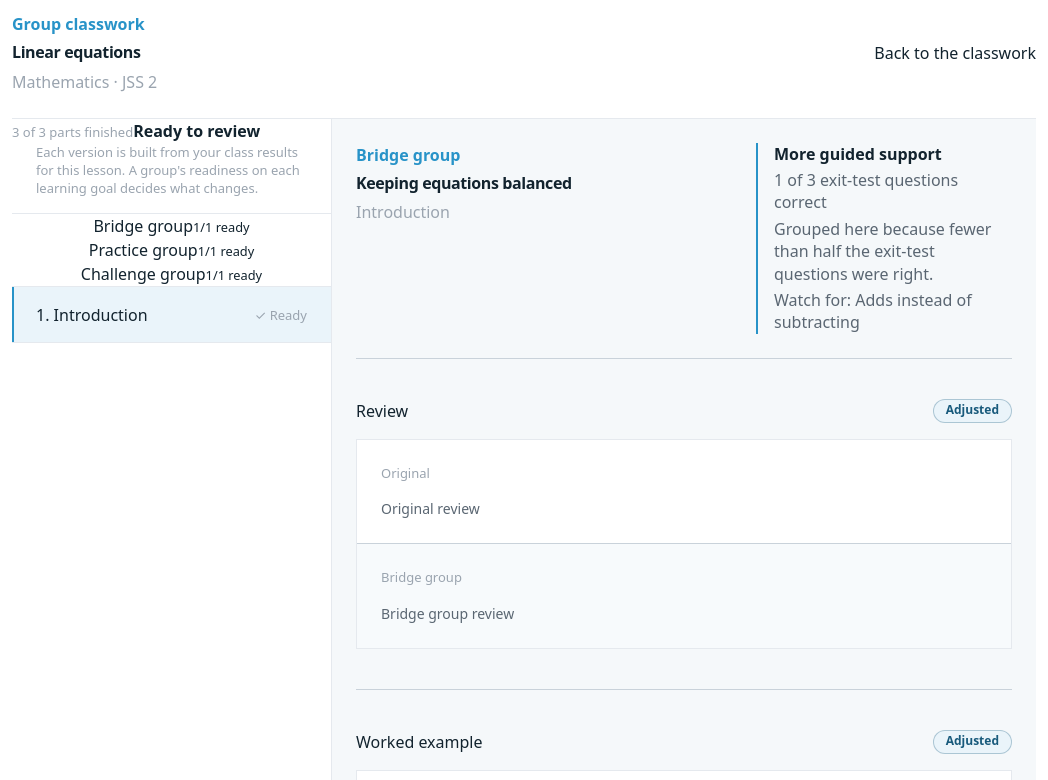
Test: DifferentiatedClassworkWorkspace › shows block-by-block original and adjusted material with persistent group context
Expected: the heading "Keeping equations balanced" is shown, [356,172,572,194]
Expected: the element "Original review" is shown, [381,499,480,518]
Click the tab "Challenge group1/1 ready": coordinates (172, 274) [12,262,331,286]
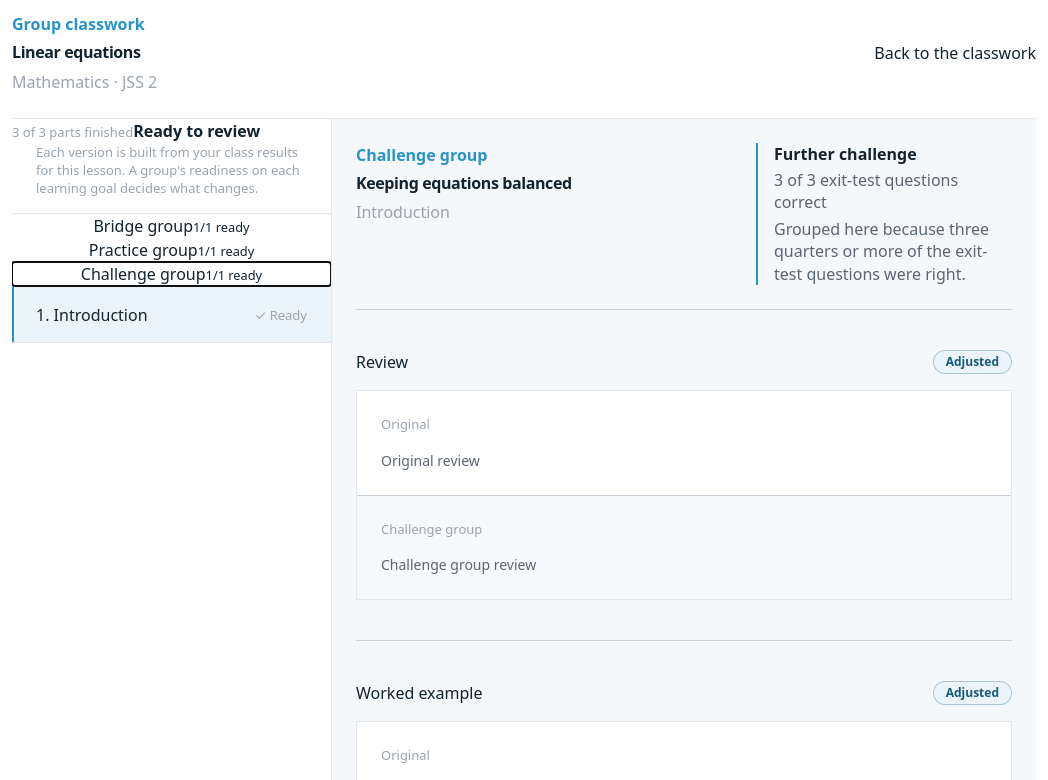
Now the text "Further challenge" is shown, box [774,143,917,165]
Now the element named "Review for Challenge group" shows "Challenge group review", box [381,555,536,574]
